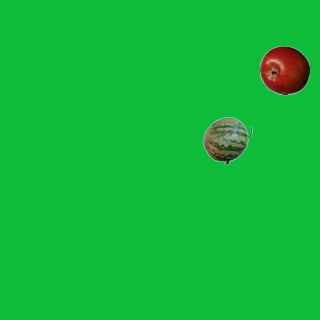Apple Braeburn: (259, 45, 309, 95)
Watermelon: (202, 115, 252, 165)
